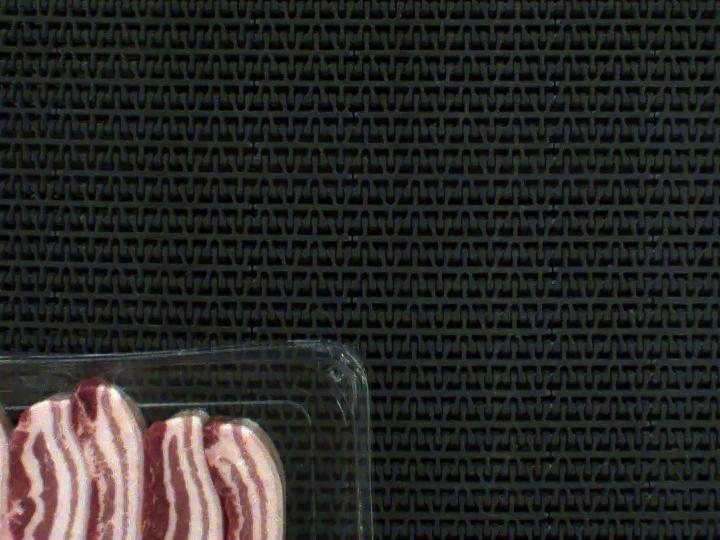packaging-error: (0, 346, 136, 408)
